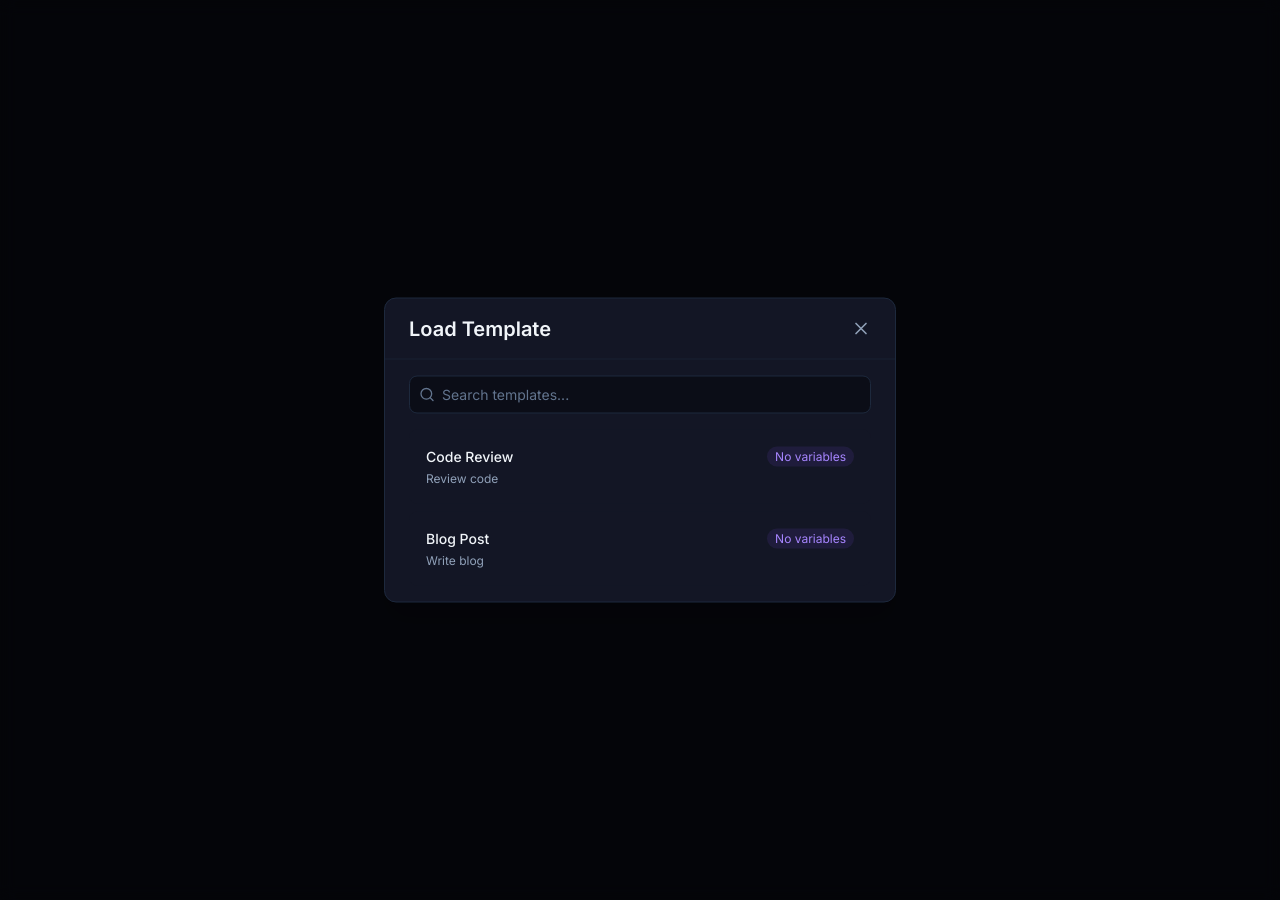
Test: TemplatePicker › search filters by name (TC-P-02)
The width and height of the screenshot is (1280, 900).
In the field with placeholder "Search templates...": (640, 394) [409,376,871,414], type "Code"
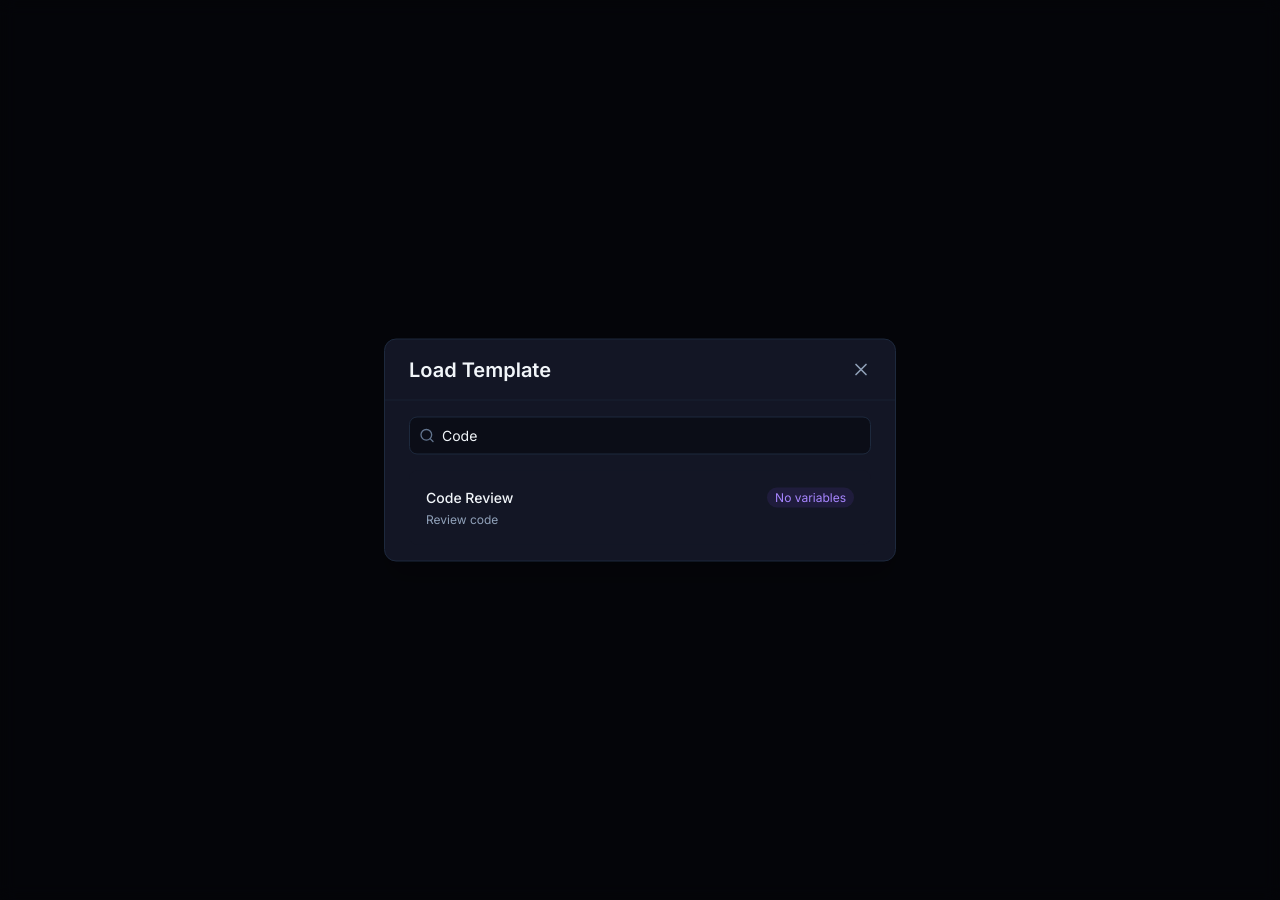
Expected: the text "Code Review" is shown, [426,488,513,506]
Expected: the button "Blog Post" is gone
